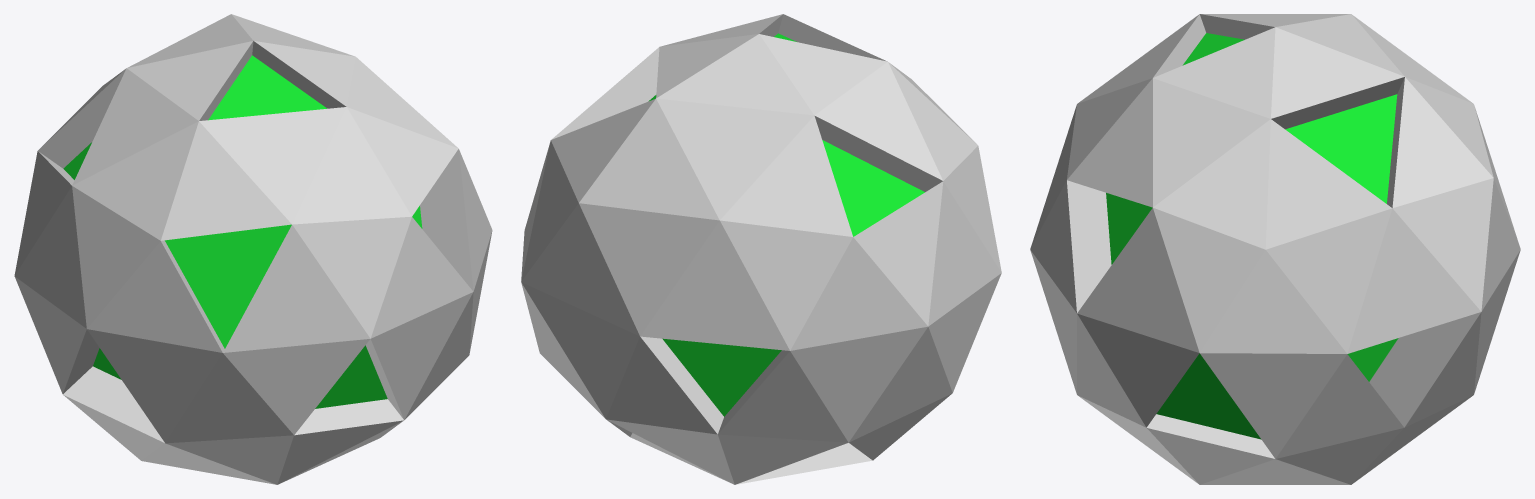
File: asteroide_1_Gre.glb
The picture shows the model from 3 angles, left to right: view 1: azimuth 30°, elevation 25°; view 2: azimuth 150°, elevation 25°; view 3: azimuth 270°, elevation 25°; orthographic projection. The views are drawn at different scales.
Visible parts, largest first — view 1: Icosphere; view 2: Icosphere; view 3: Icosphere.
Boxes of the visible parts, box(x1,y1,x2,y2) form: Icosphere: box(14, 14, 492, 484); Icosphere: box(521, 14, 1001, 484); Icosphere: box(1030, 14, 1520, 484).
Size of the model in its own units: 1 by 1 by 1.
